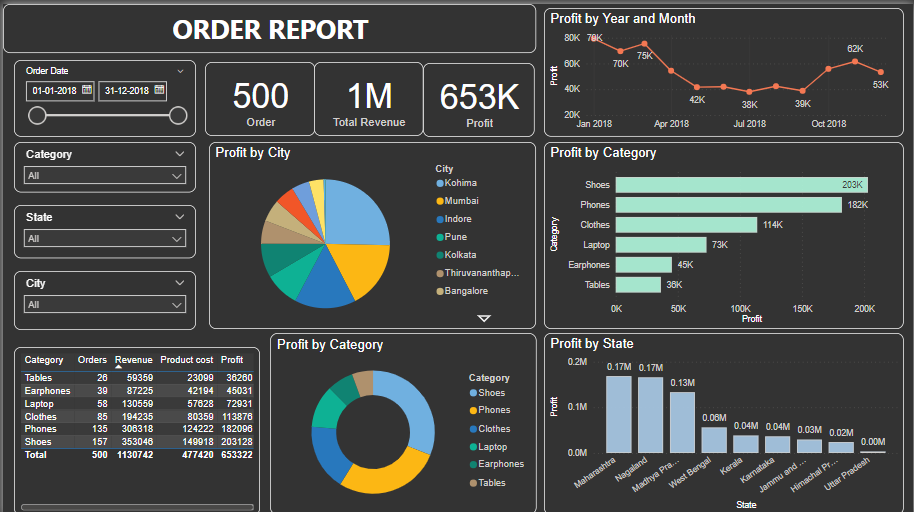

What the dashboard file says about the page in this screenshot:
{"tool":"powerbi","page":{"name":"Page 1","canvas":[1280,720],"ordinal":0},"visuals":[{"type":"textbox","box":[0,0,750,69.2],"z":0},{"type":"card","fields":{"Values":["CountNonNull(Orders.Order ID)"]},"box":[283.9,82,155.1,104],"z":1000},{"type":"card","fields":{"Values":["Sum(Orders.order_total)"]},"box":[437.6,82,153.7,104],"z":2000},{"type":"card","fields":{"Values":["Sum(Orders.Profit)"]},"box":[590.4,82.7,157,104],"z":3000},{"type":"areaChart","fields":{"Category":["Orders.Order Date.Variation.Date Hierarchy.Year","Orders.Order Date.Variation.Date Hierarchy.Month"],"Y":["Sum(Orders.Profit)"]},"box":[761.5,5.8,505.8,180.8],"z":4000},{"type":"clusteredBarChart","fields":{"Category":["Orders.Category"],"Y":["Sum(Orders.Profit)"]},"box":[761.5,194.2,505.8,263.5],"z":5000},{"type":"clusteredColumnChart","fields":{"Category":["Orders.State"],"Y":["Sum(Orders.Profit)"]},"box":[761.5,463.5,505.8,255.8],"z":6000},{"type":"pieChart","fields":{"Category":["Orders.City"],"Y":["Sum(Orders.Profit)"]},"box":[290.4,194.2,459.6,263.5],"z":7000},{"type":"donutChart","fields":{"Y":["Sum(Orders.Profit)"],"Category":["Orders.Category"]},"box":[375,463.5,375,255.8],"z":8000},{"type":"tableEx","fields":{"Values":["Orders.Category","CountNonNull(Orders.Order ID)","Sum(Orders.order_total)","Sum(Orders.Product cost)","Sum(Orders.Profit)"]},"box":[15.4,482.7,346.2,236.5],"z":9000},{"type":"actionButton","box":[0,0,15.4,5.8],"z":10000},{"type":"slicer","fields":{"Values":["Orders.Order Date"]},"box":[15.4,78.8,255.8,107.7],"z":11000},{"type":"slicer","fields":{"Values":["Orders.Category"]},"box":[15.4,194.2,255.8,71.2],"z":12000},{"type":"slicer","fields":{"Values":["Orders.State"]},"box":[15.4,282.7,255.8,75],"z":13000},{"type":"slicer","fields":{"Values":["Orders.City"]},"box":[15.4,375,255.8,82.7],"z":14000}]}

Visuals, with their boxes in screenshot pixels (x1, y1, x2, y2), scaled from the page's 1280x720 canvas onto the 914x512 screenshot:
textbox: [0, 0, 536, 49]
card - CountNonNull(Orders.Order ID): [203, 58, 313, 132]
card - Sum(Orders.order_total): [312, 58, 422, 132]
card - Sum(Orders.Profit): [422, 59, 534, 133]
areaChart - Orders.Order Date.Variation.Date Hierarchy.Year x Orders.Order Date.Variation.Date Hierarchy.Month: [544, 4, 905, 133]
clusteredBarChart - Orders.Category x Sum(Orders.Profit): [544, 138, 905, 325]
clusteredColumnChart - Orders.State x Sum(Orders.Profit): [544, 330, 905, 511]
pieChart - Orders.City x Sum(Orders.Profit): [207, 138, 536, 325]
donutChart - Sum(Orders.Profit) x Orders.Category: [268, 330, 536, 511]
tableEx - Orders.Category x CountNonNull(Orders.Order ID): [11, 343, 258, 511]
actionButton: [0, 0, 11, 4]
slicer - Orders.Order Date: [11, 56, 194, 133]
slicer - Orders.Category: [11, 138, 194, 189]
slicer - Orders.State: [11, 201, 194, 254]
slicer - Orders.City: [11, 267, 194, 325]
